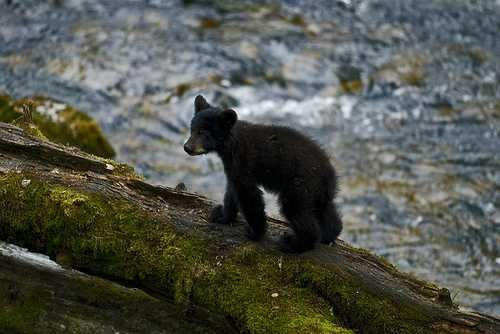bear: (164, 86, 292, 214)
